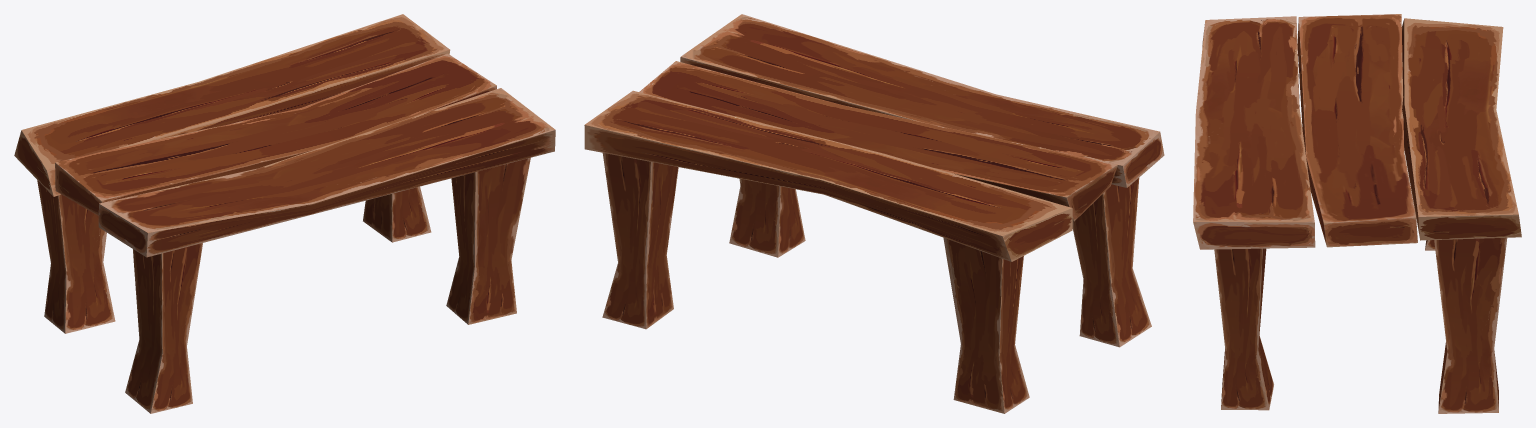
File: mesa01.glb
The picture shows the model from 3 angles, left to right: view 1: azimuth 30°, elevation 25°; view 2: azimuth 150°, elevation 25°; view 3: azimuth 270°, elevation 25°; orthographic projection. The views are drawn at different scales.
Visible parts, largest first — view 1: Mesa01; view 2: Mesa01; view 3: Mesa01.
Boxes of the visible parts, bbox=[...] form: Mesa01: bbox=[14, 14, 555, 413]; Mesa01: bbox=[584, 14, 1164, 413]; Mesa01: bbox=[1193, 14, 1521, 413].
Size of the model in its own units: 1.79 by 0.8249 by 1.14.
Materials: 1 (1 with a texture image).
